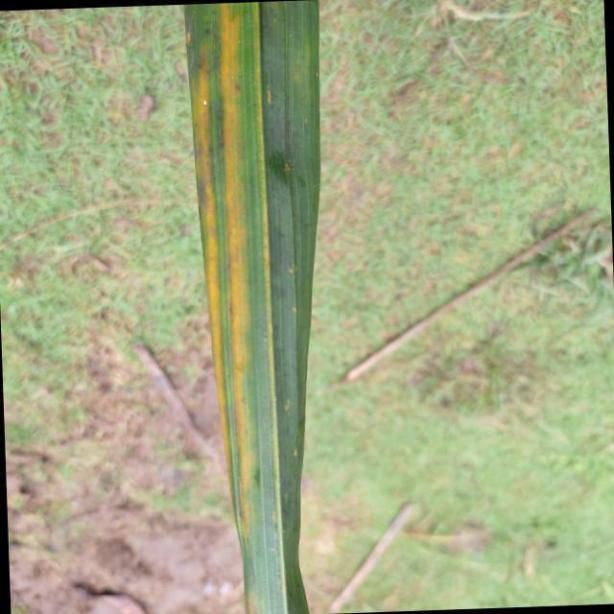Megnesium: (182, 1, 324, 614)
